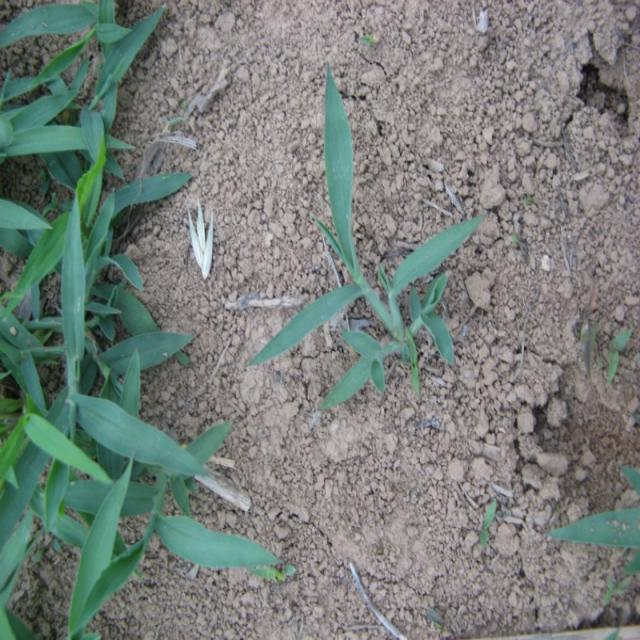bg: (254, 68, 491, 414)
